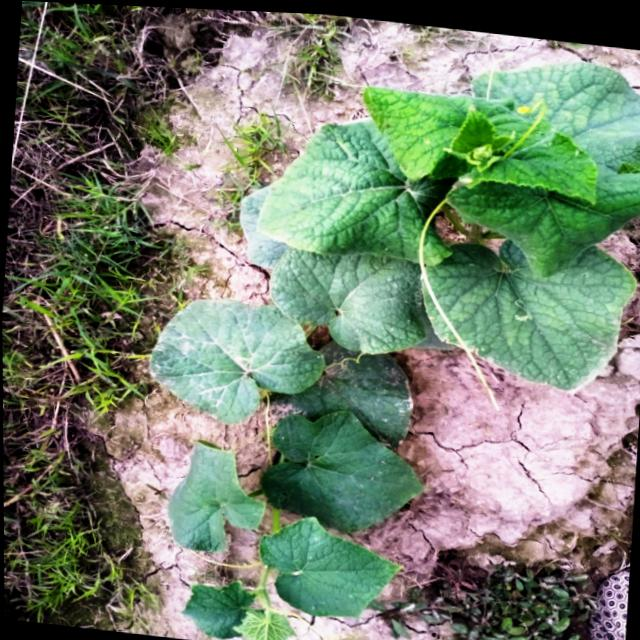Fresh-Leaf: (262, 515, 401, 618), (481, 128, 598, 203), (184, 583, 255, 638)
